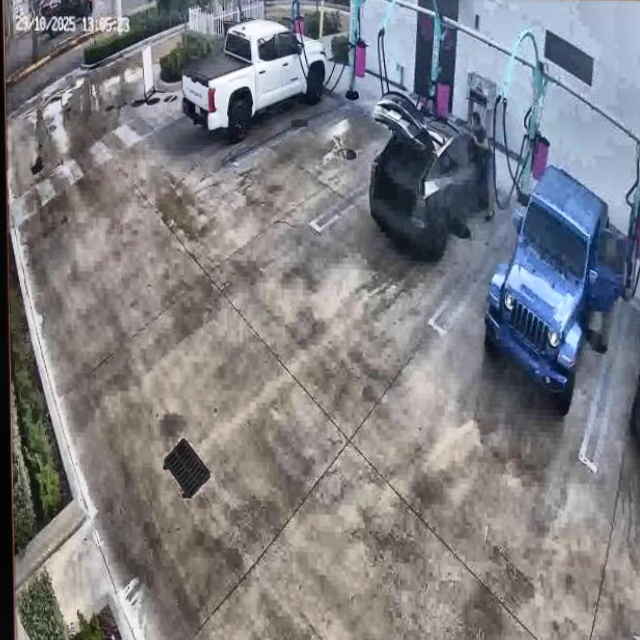Car: (362, 74, 495, 262)
